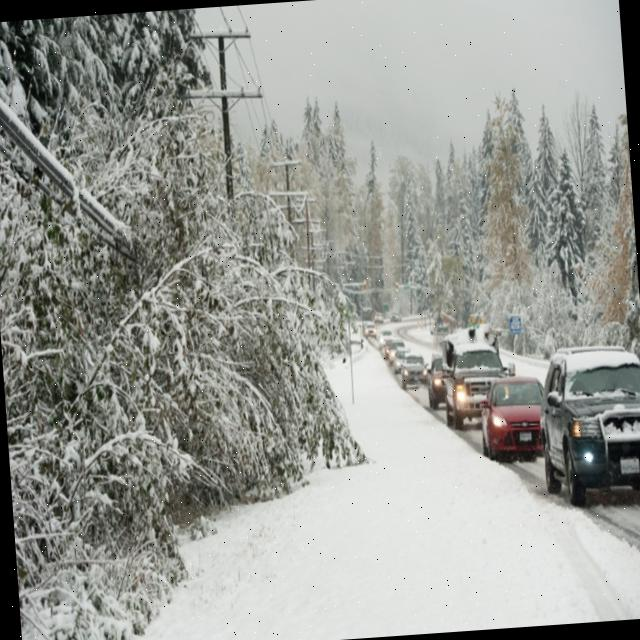car: (531, 340, 640, 508), (438, 338, 514, 433), (476, 371, 550, 464), (426, 353, 448, 408), (398, 353, 426, 390), (392, 348, 408, 371), (388, 338, 402, 359), (363, 319, 378, 337), (378, 330, 391, 350)
